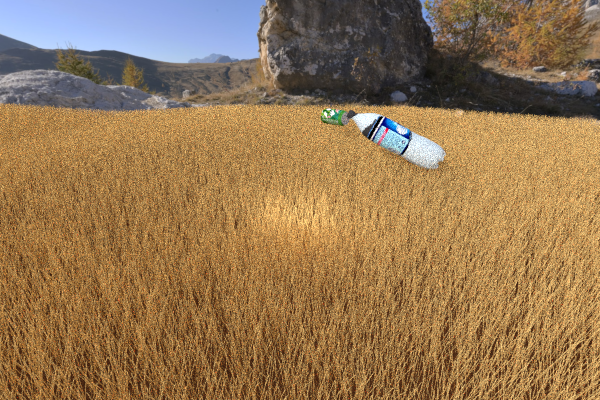bottle: (346, 109, 445, 170)
can: (320, 108, 349, 126), (323, 104, 348, 119)
